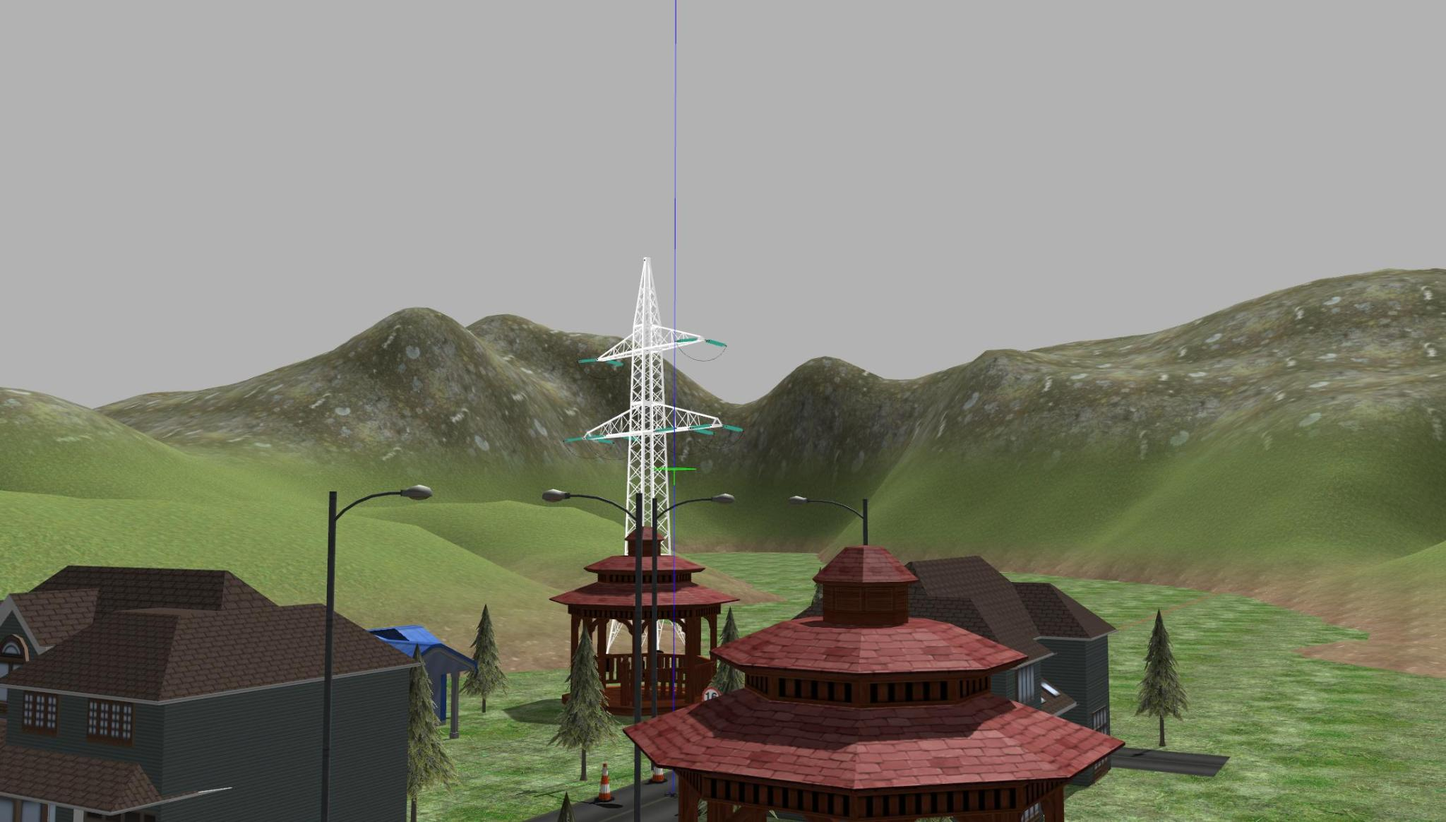tower: (585, 255, 721, 516)
